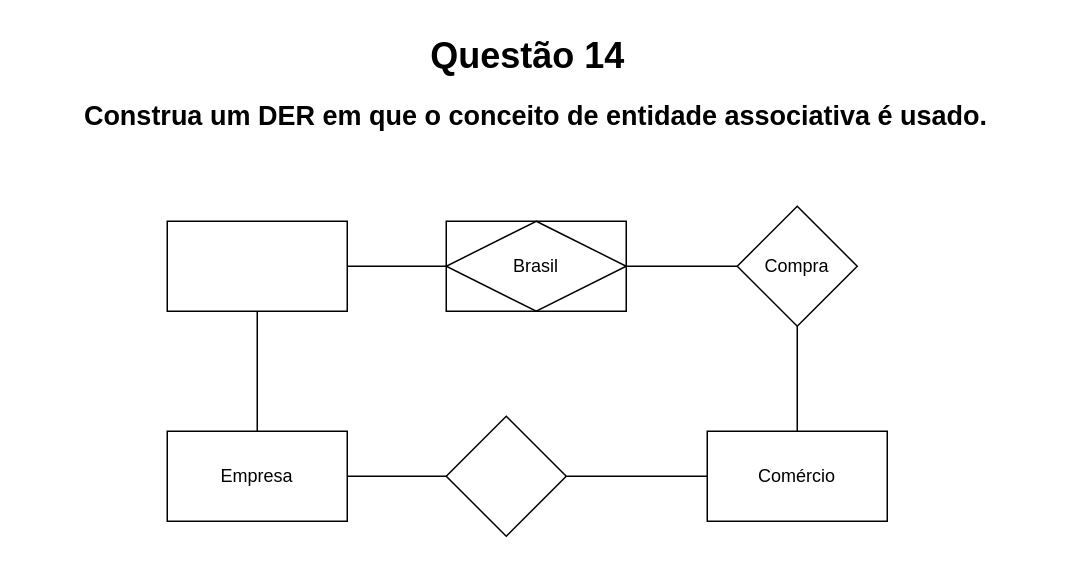
This 1071x563 diagram has some shape labels left out. Here are the shapes that lost their labels. From the top down, the centre of each, then its label:
At pixel 256 265: "Cidadão".
At pixel 505 475: "Lucra".
